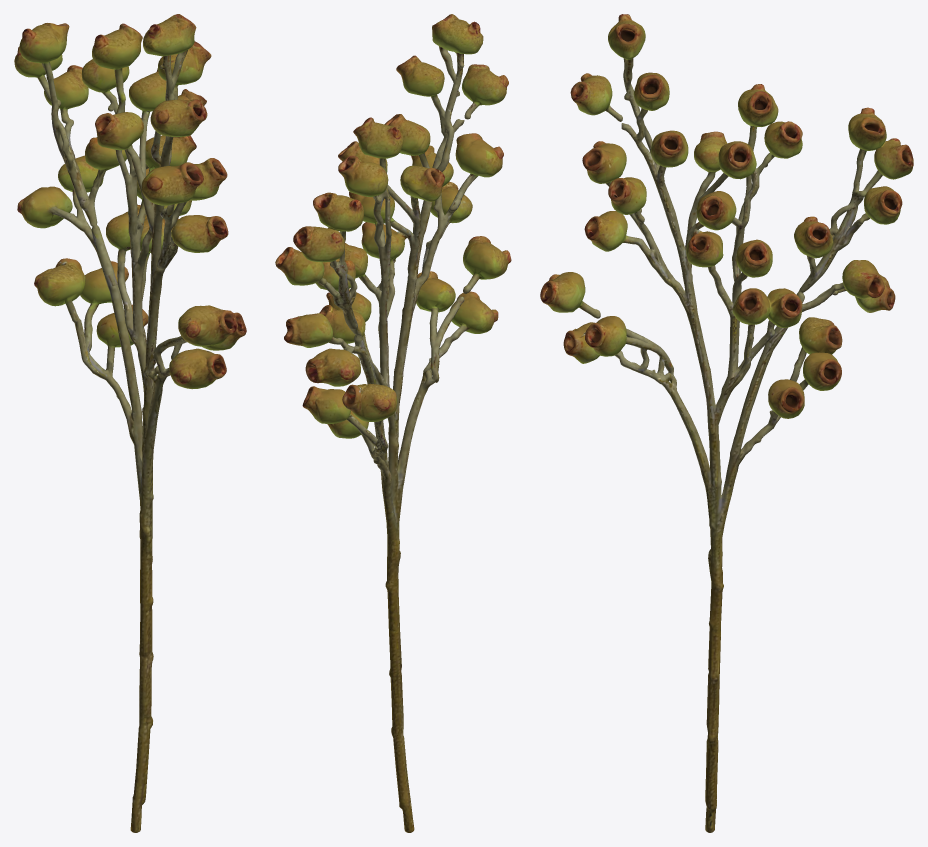
The model's file is GreenBerry.glb.
3 views of the same model, side by side, from view 1: azimuth 30°, elevation 25°; view 2: azimuth 150°, elevation 25°; view 3: azimuth 270°, elevation 25° (orthographic). The views are drawn at different scales.
Visible parts, largest first — view 1: tripo_node_818ab20e-458d-4f5d-ab0e-b27717ec01a7; view 2: tripo_node_818ab20e-458d-4f5d-ab0e-b27717ec01a7; view 3: tripo_node_818ab20e-458d-4f5d-ab0e-b27717ec01a7.
Part boxes in pixels (x1,y1,x2,y2): tripo_node_818ab20e-458d-4f5d-ab0e-b27717ec01a7: (14, 14, 246, 832); tripo_node_818ab20e-458d-4f5d-ab0e-b27717ec01a7: (275, 14, 511, 832); tripo_node_818ab20e-458d-4f5d-ab0e-b27717ec01a7: (540, 14, 913, 832).
Size of the model in its own units: 0.1412 by 1 by 0.419.
1 material, 1 textured.
